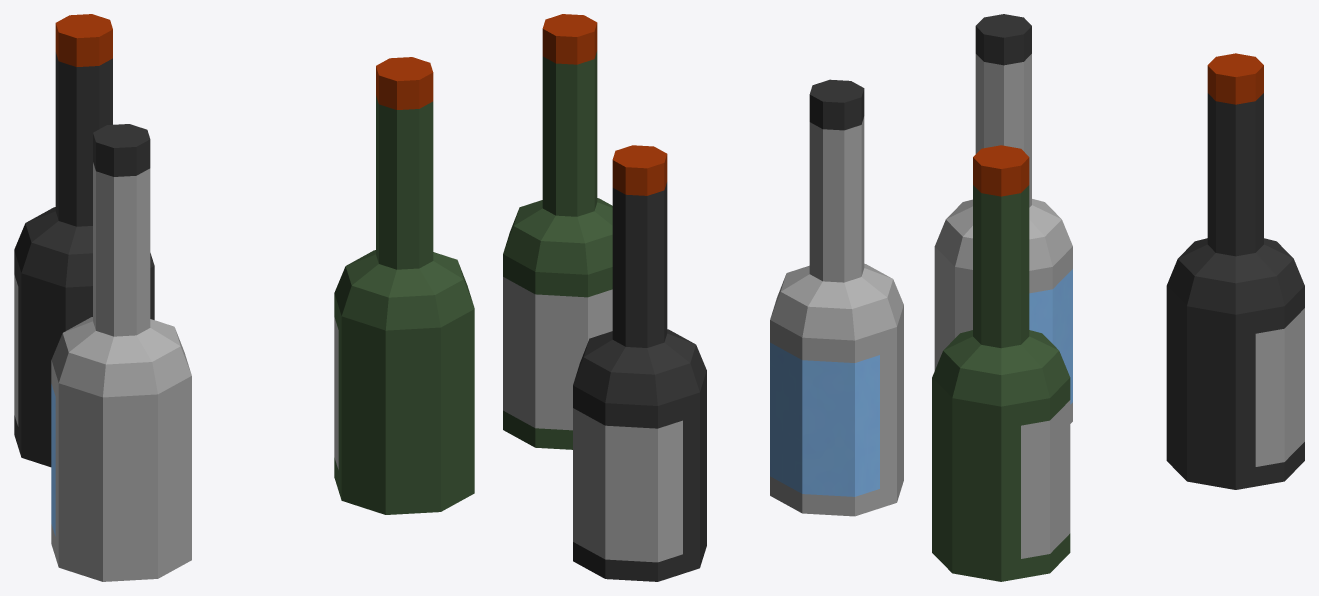
The model's file is bottle_1.fbx.
3 views of the same model, side by side, from view 1: azimuth 30°, elevation 25°; view 2: azimuth 150°, elevation 25°; view 3: azimuth 270°, elevation 25° (orthographic). The views are drawn at different scales.
Visible parts, largest first — view 1: bottle_1; view 2: bottle_1; view 3: bottle_1.
Part boxes in pixels (bbox=[...]): bottle_1: bbox=[14, 14, 474, 581]; bottle_1: bbox=[503, 14, 903, 581]; bottle_1: bbox=[932, 14, 1304, 581].
Bounding box in the file's own units: 13.51 × 13.21 × 11.26.
